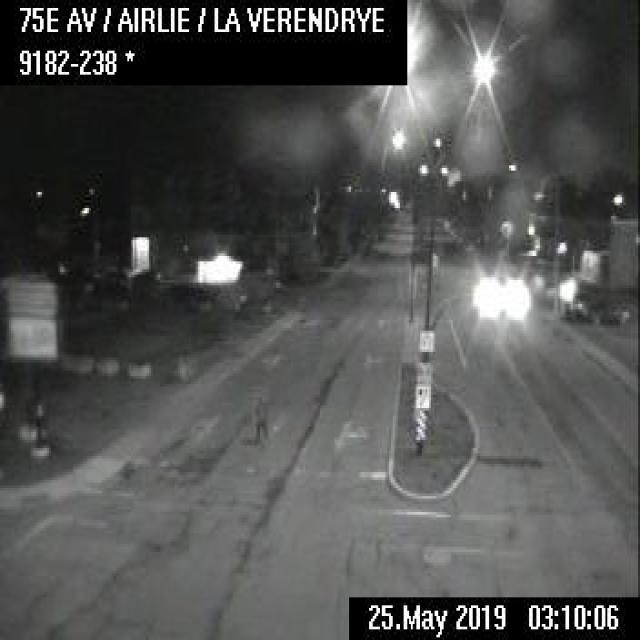pedestrian: (249, 388, 269, 445)
vehicle: (584, 294, 628, 326)
